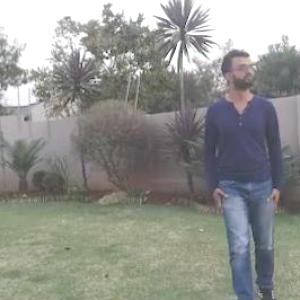follow: (200, 24, 291, 299)
